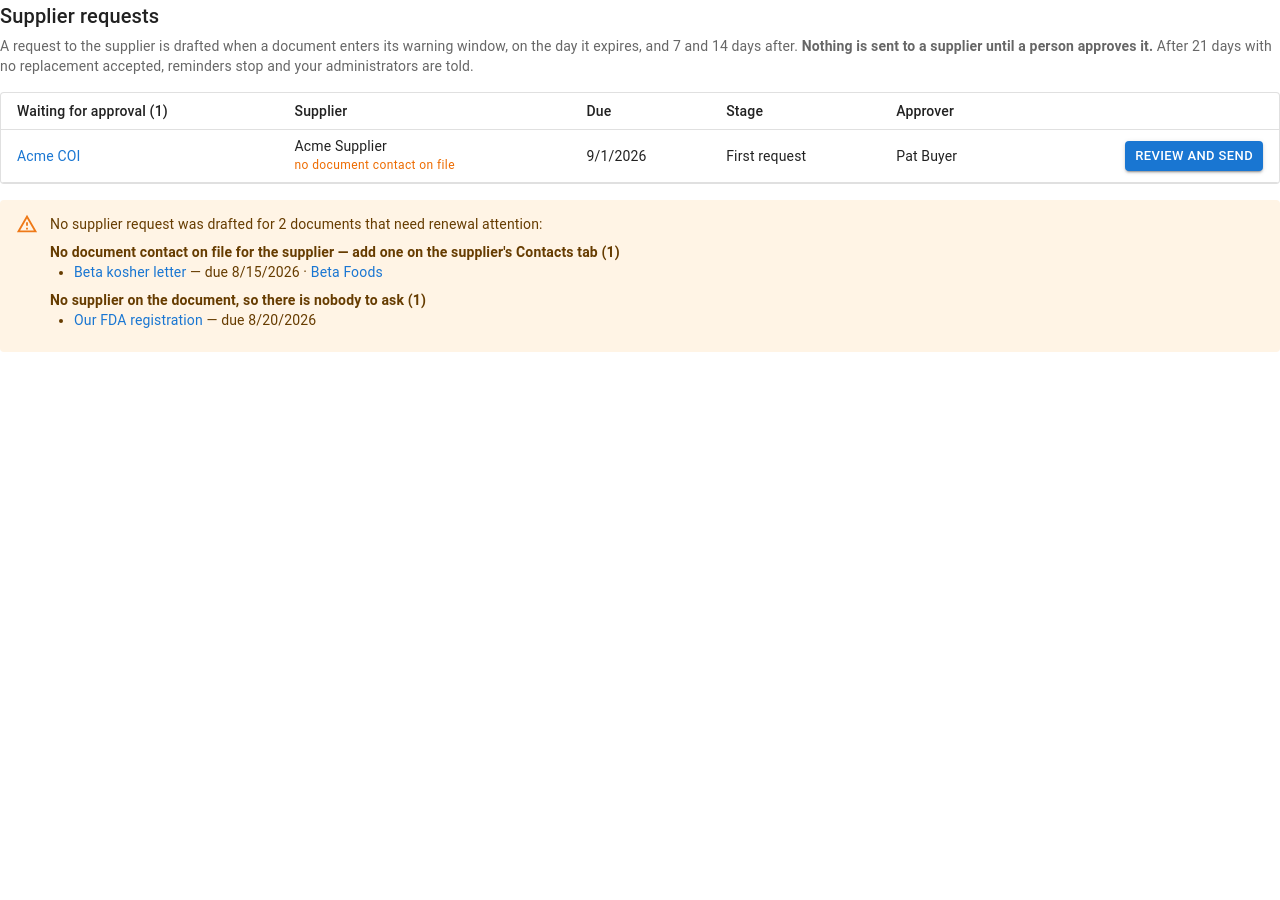
Test: Renewals > Supplier requests › cannot send with no document contact, and lists what was not drafted and why
Expected: the message with test id "supplier-requests-not-drafted" shows "2 documents", [0, 200, 1279, 352]
Expected: the message with test id "supplier-requests-not-drafted" shows "Beta kosher letter", [74, 264, 186, 280]
Step 1. Click the button "Review and send" → (1194, 156), box [1125, 141, 1263, 171]
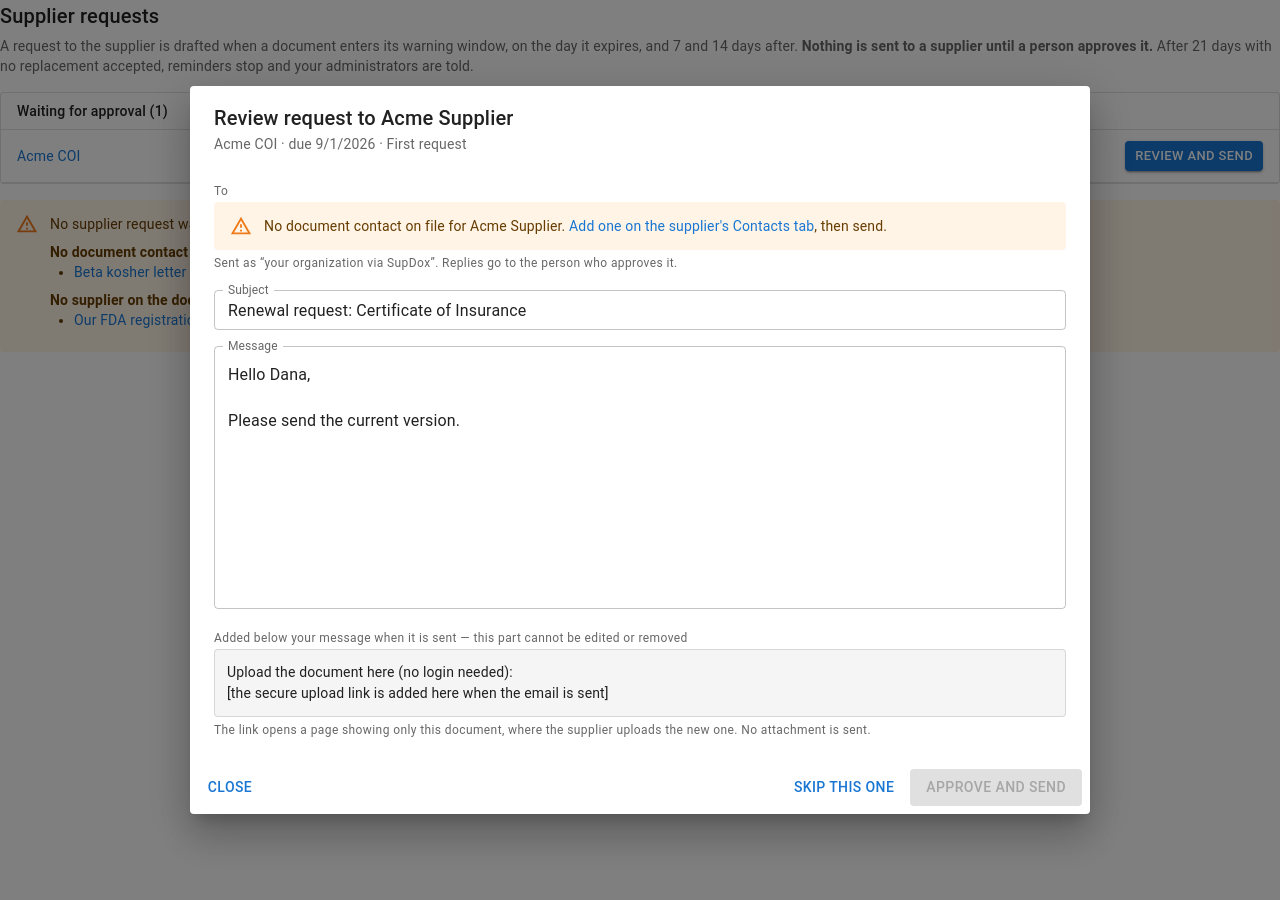
Now the message with test id "review-no-contact" is shown, box [214, 202, 1066, 250]
Now the button "Approve and send" is disabled, box [910, 769, 1082, 806]
